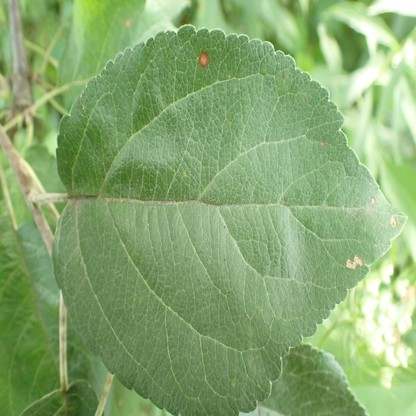frogeye_leaf_spot: (199, 51, 210, 68), (347, 256, 362, 268), (390, 217, 397, 226), (125, 18, 130, 27), (371, 196, 375, 205), (321, 142, 326, 146)
